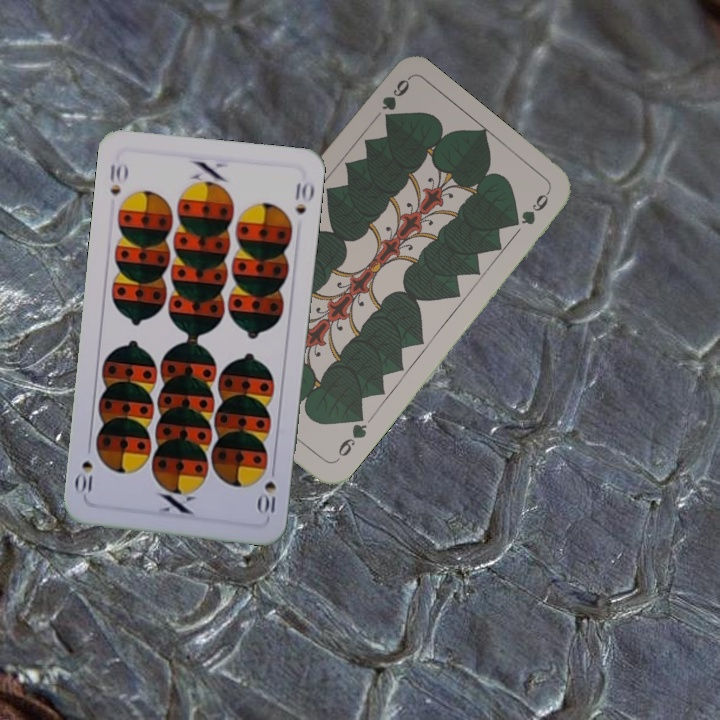G9: (329, 413, 370, 466), (377, 74, 413, 124)
S10: (255, 461, 278, 518), (106, 159, 130, 198)
